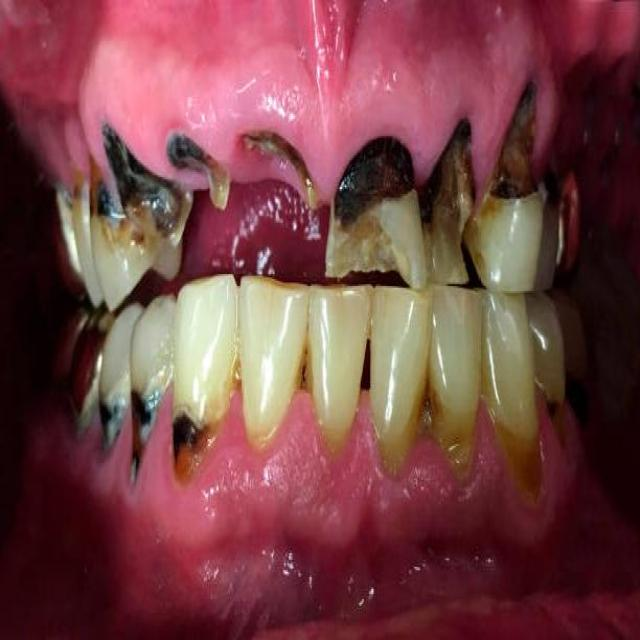caries: (322, 130, 428, 293), (105, 118, 190, 281), (477, 67, 540, 230), (423, 104, 474, 288), (237, 116, 321, 216), (85, 162, 144, 288), (421, 366, 481, 486), (166, 123, 234, 217), (168, 387, 225, 493), (120, 374, 166, 499), (493, 394, 545, 504), (536, 115, 576, 256), (67, 308, 105, 442), (543, 373, 575, 460), (96, 377, 127, 464), (58, 172, 86, 234)
